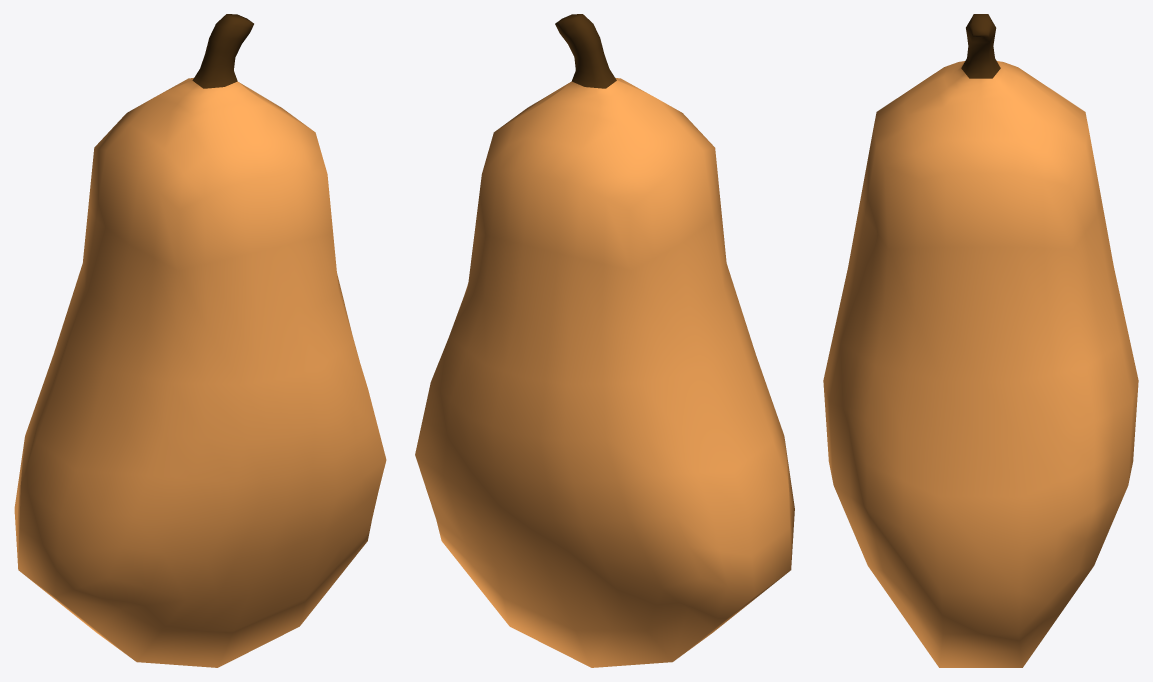
Rendered from mamaoFechado.fbx.
The picture shows the model from 3 angles, left to right: view 1: azimuth 30°, elevation 25°; view 2: azimuth 150°, elevation 25°; view 3: azimuth 270°, elevation 25°; orthographic projection. The views are drawn at different scales.
Visible parts, largest first — view 1: Cube; view 2: Cube; view 3: Cube.
Part boxes in pixels (box(x1,y1,x2,y2)): Cube: box(14, 14, 386, 667); Cube: box(415, 14, 794, 667); Cube: box(823, 14, 1138, 667).
Bounding box in the file's own units: 225 × 412 × 181.
